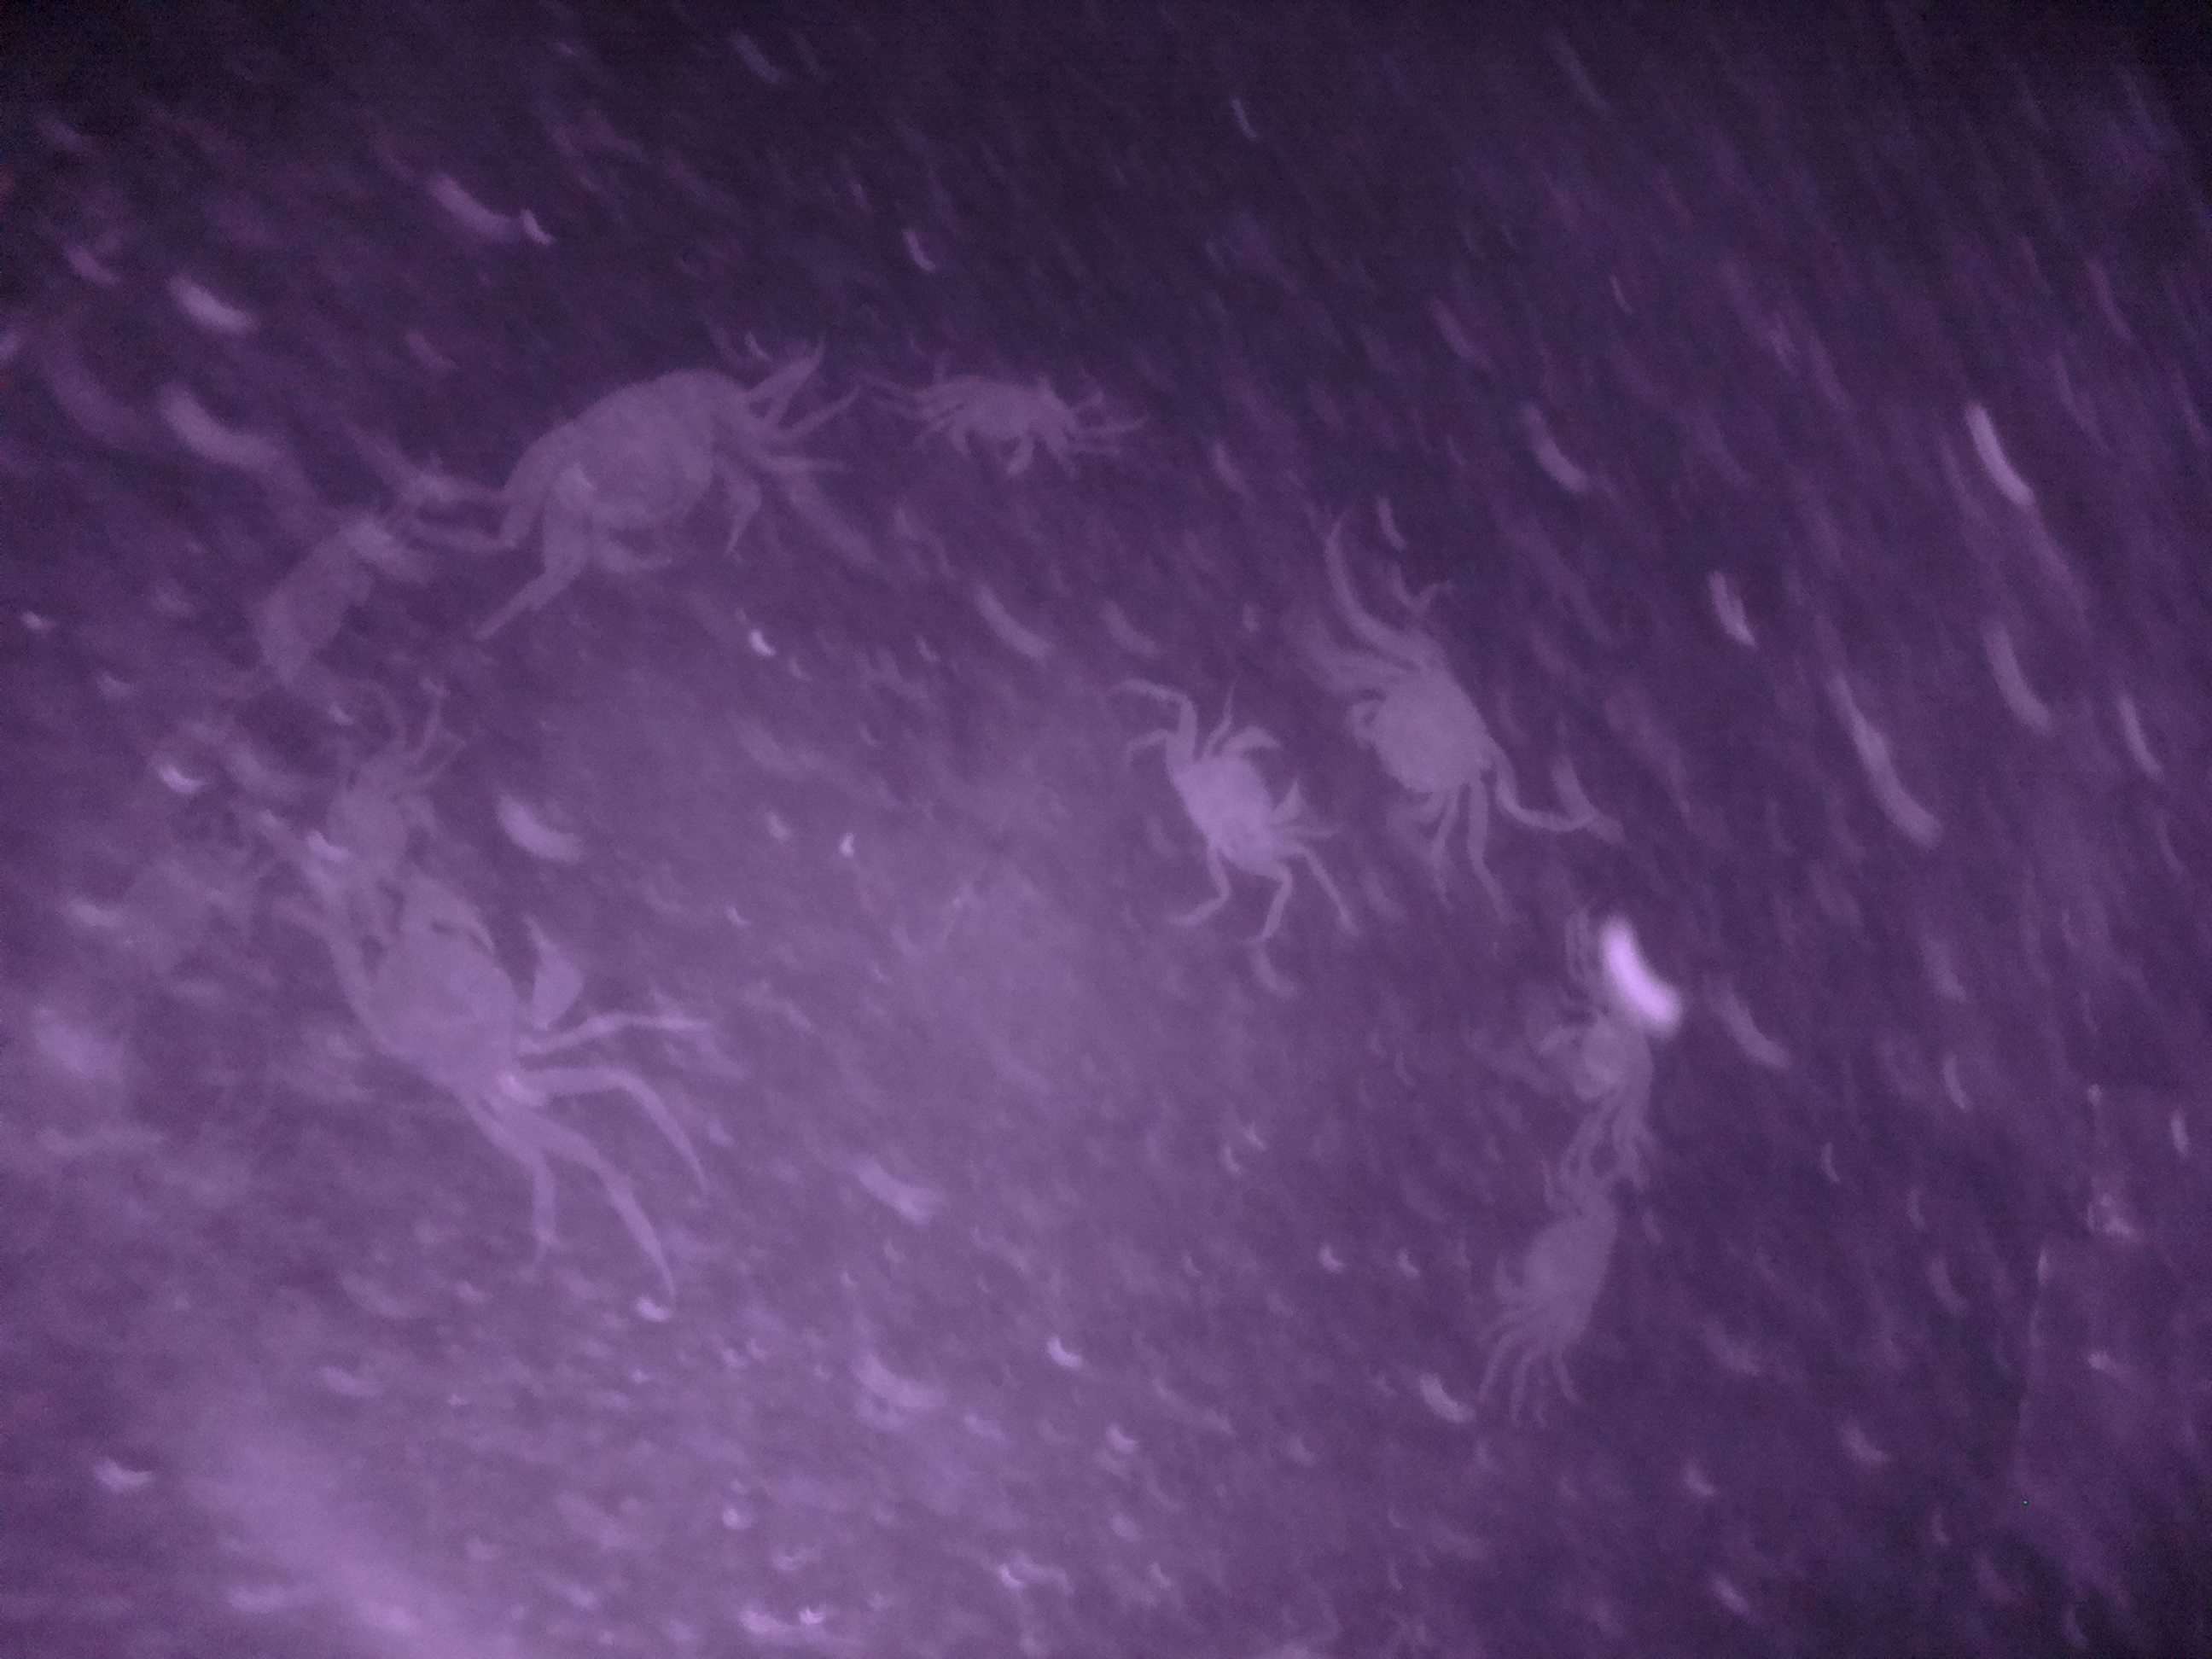Crab: (540, 347, 799, 610), (1487, 1148, 1642, 1377), (1345, 643, 1524, 819), (1165, 720, 1310, 885), (914, 354, 1085, 490)
